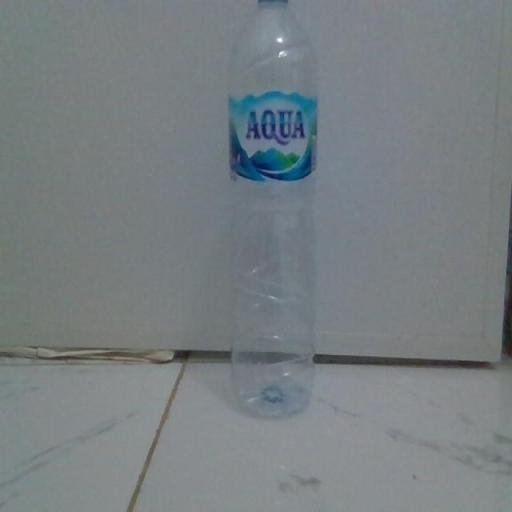plastic: (228, 0, 314, 418)
